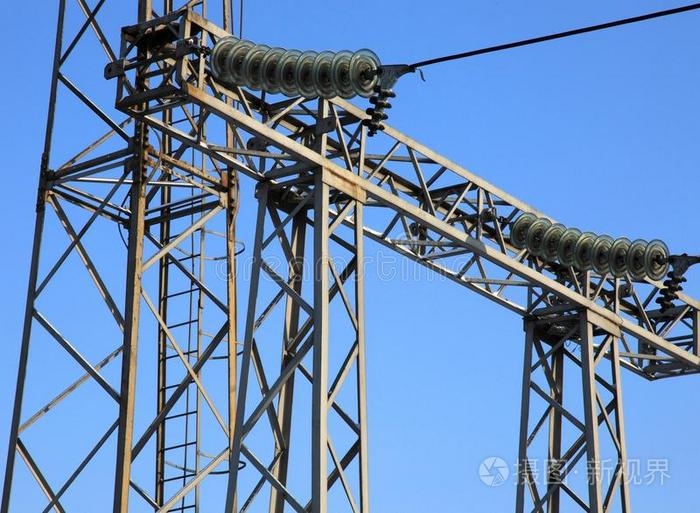insulator: (207, 36, 377, 99), (510, 212, 668, 278)
